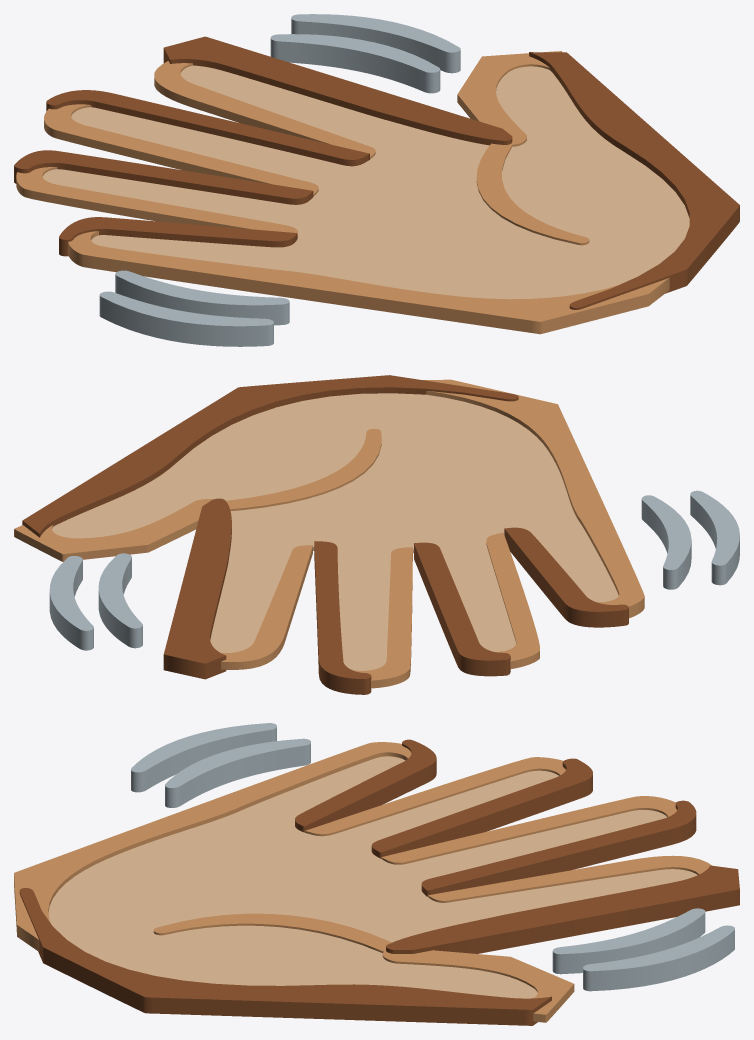
File: emoji_u1f44b_1f3fc.glb
3 renders of one model, top to bottom at view 1: azimuth 30°, elevation 25°; view 2: azimuth 150°, elevation 25°; view 3: azimuth 270°, elevation 25°, orthographic. The views are drawn at different scales.
Visible parts, largest first — view 1: emoji_u1f44b_1f3fc; view 2: emoji_u1f44b_1f3fc; view 3: emoji_u1f44b_1f3fc.
Boxes of the visible parts, x1,y1,x2,y2 form: emoji_u1f44b_1f3fc: (14,14,739,346); emoji_u1f44b_1f3fc: (14,375,739,694); emoji_u1f44b_1f3fc: (14,723,739,1025).
Size of the model in its own units: 0.0307 by 0.001 by 0.0329.
